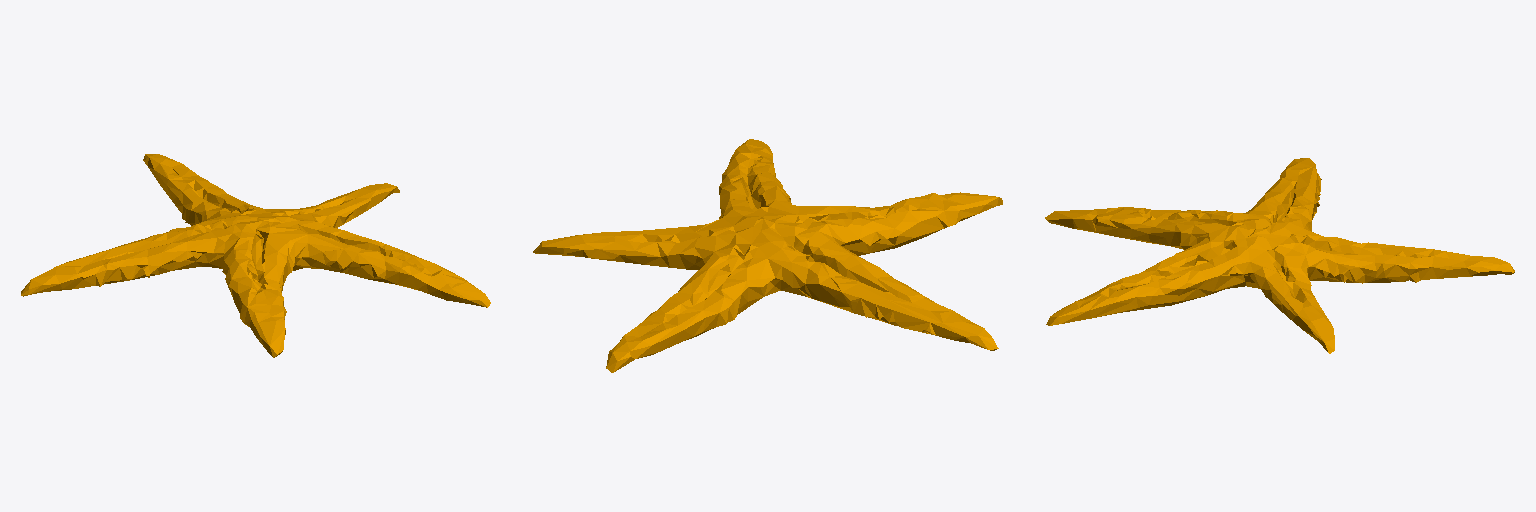
robot.urdf — starfish:
<?xml version="1.0"?>
<robot name="starfish">

  <link name="base_link">
    <visual>
      <geometry>
        <mesh filename="package://starfish-soft/starfish_lod3.obj" scale="50 50 50"/>
      </geometry>
    </visual>
    <collision>
      <geometry>
        <mesh filename="package://starfish-soft/starfish_lod3.obj" scale="50 50 50" />
      </geometry>
    </collision>
  </link>

</robot>

--- Render facts (derived) ---
3 views of the same robot in one strip: view 1: azimuth 30°, elevation 25°; view 2: azimuth 150°, elevation 25°; view 3: azimuth 270°, elevation 25° (orthographic).
Robot: starfish — 1 links, 0 joints (none); root link base_link; default pose: every joint at zero.
Links seen in each view (by area): view 1: base_link; view 2: base_link; view 3: base_link.
Boxes of the visible links, <box> form: base_link: <box>21,154,490,357</box>; base_link: <box>533,139,1002,372</box>; base_link: <box>1045,158,1514,353</box>.
Size in the robot's own frame: 2.35 by 2.45 by 0.2571 metres.
Meshes: 1 distinct files referenced, 1 mesh visuals loaded (1 OBJ).